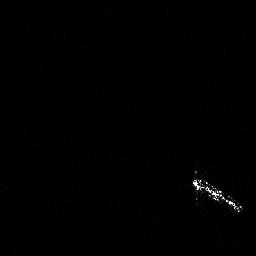ship: (187, 169, 246, 218)
